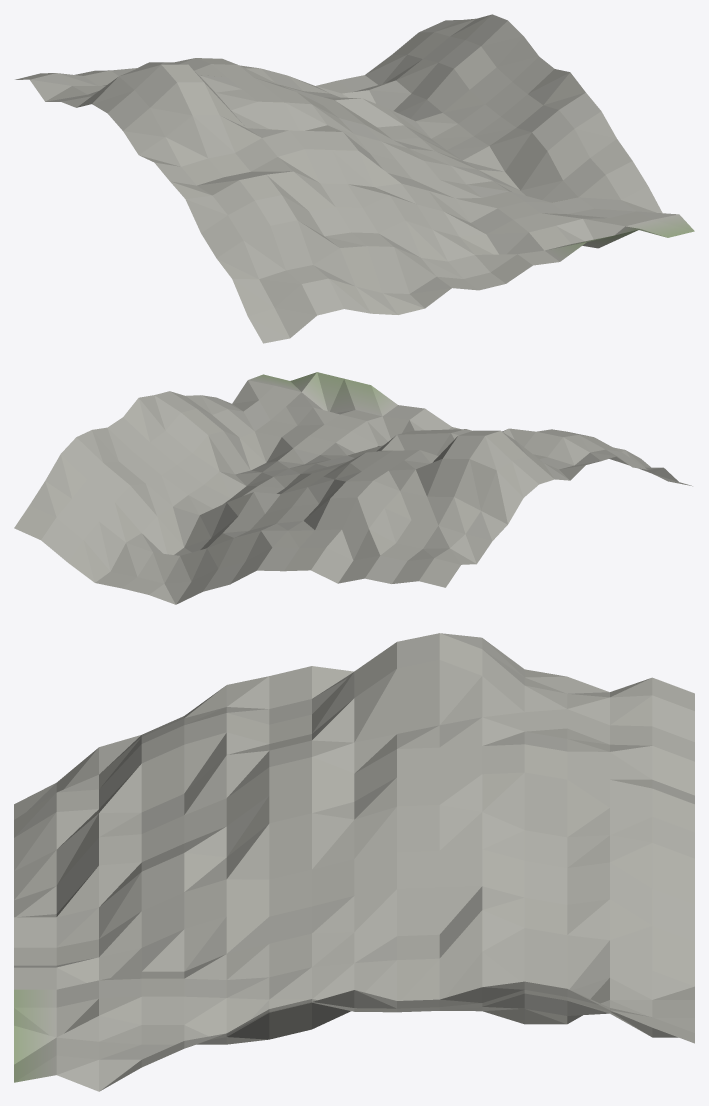
3 renders of one model, top to bottom at view 1: azimuth 30°, elevation 25°; view 2: azimuth 150°, elevation 25°; view 3: azimuth 270°, elevation 25°, orthographic. The views are drawn at different scales.
Size of the model in its own units: 32 by 11.08 by 32.
